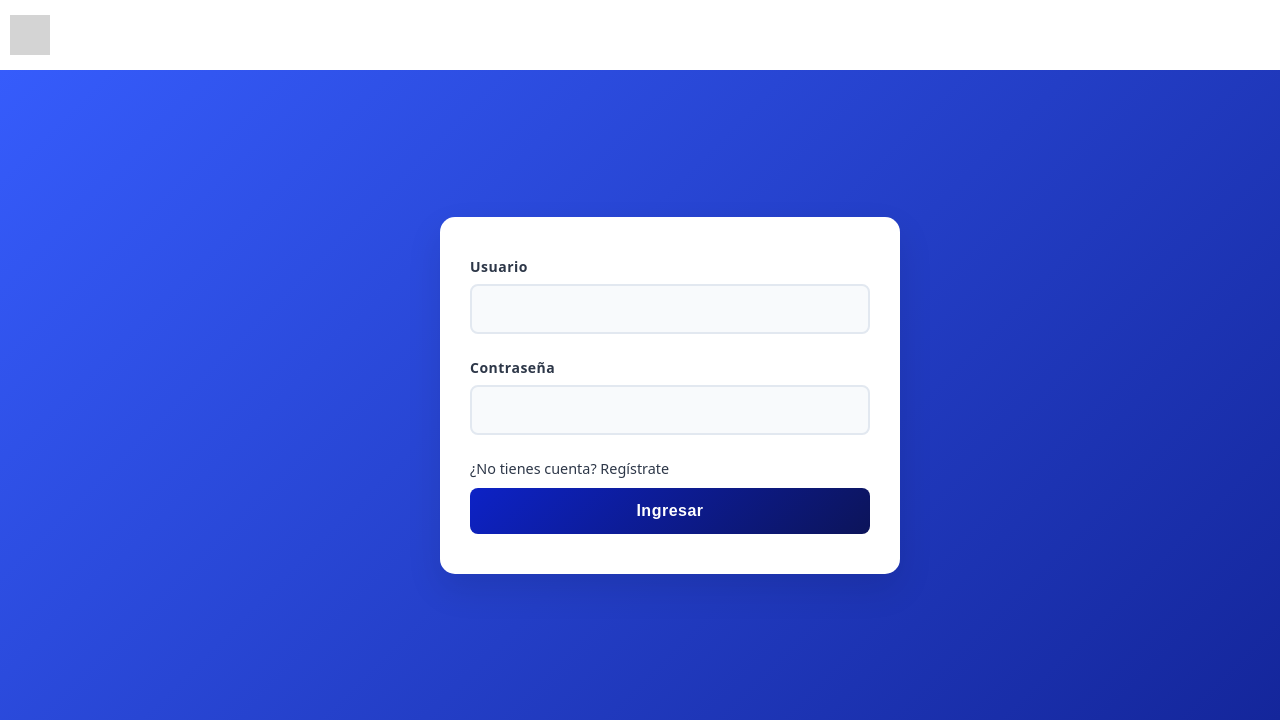
Test: Login page › muestra error con credenciales inválidas
The width and height of the screenshot is (1280, 720).
Type "john" into the field named "username" at (670, 308), box top-left (470, 284), bottom-right (870, 334)
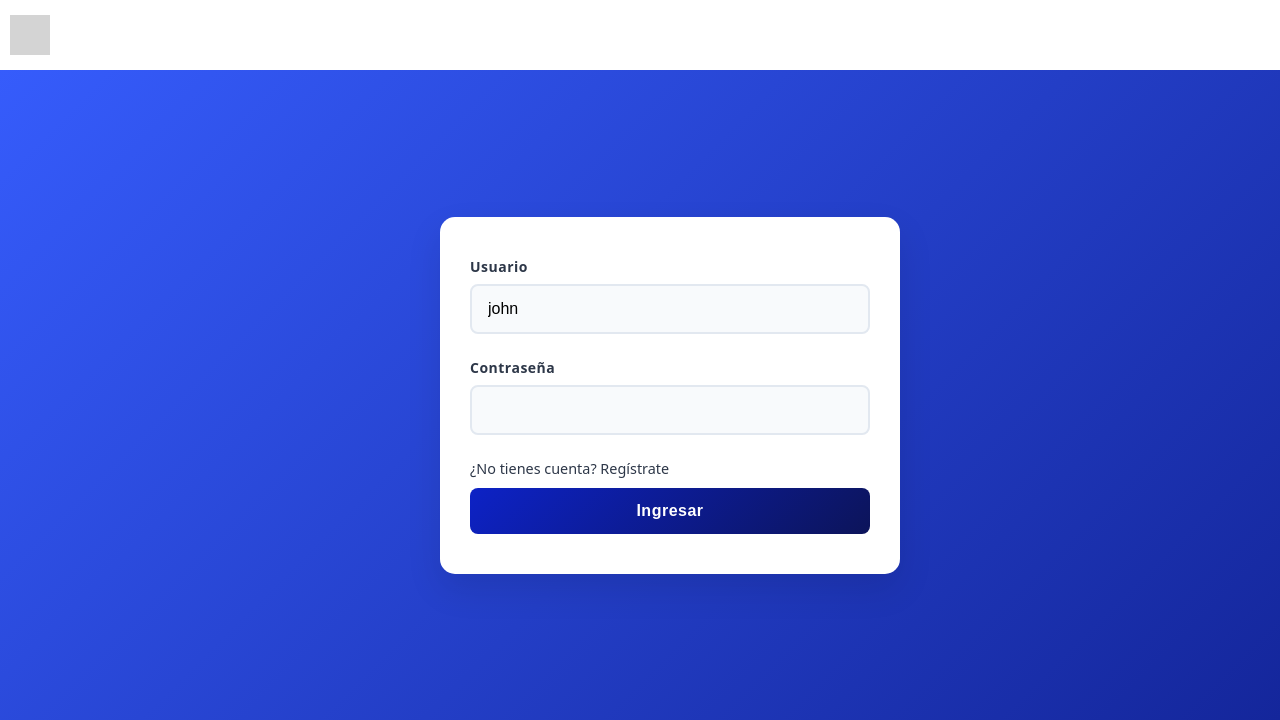
Type "bad" into the password field named "password" at (670, 410), box top-left (470, 384), bottom-right (870, 434)
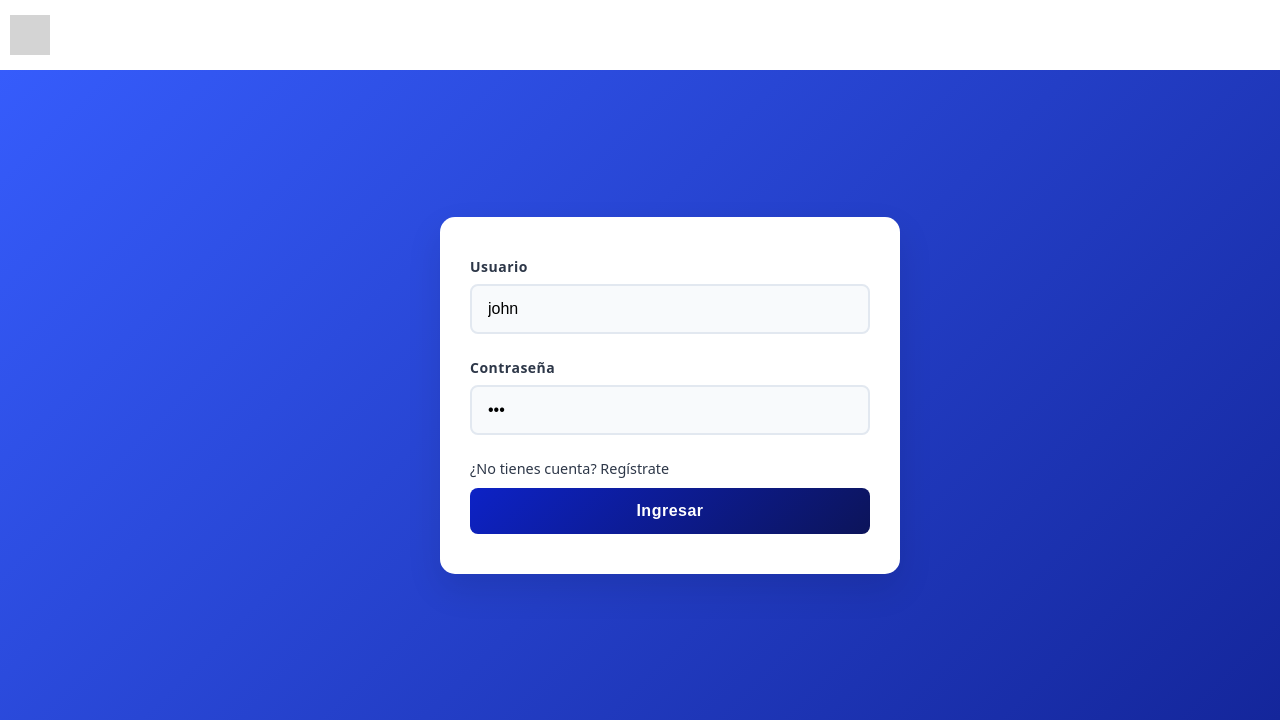
Click the button "Ingresar" at (670, 510), box top-left (470, 488), bottom-right (870, 534)
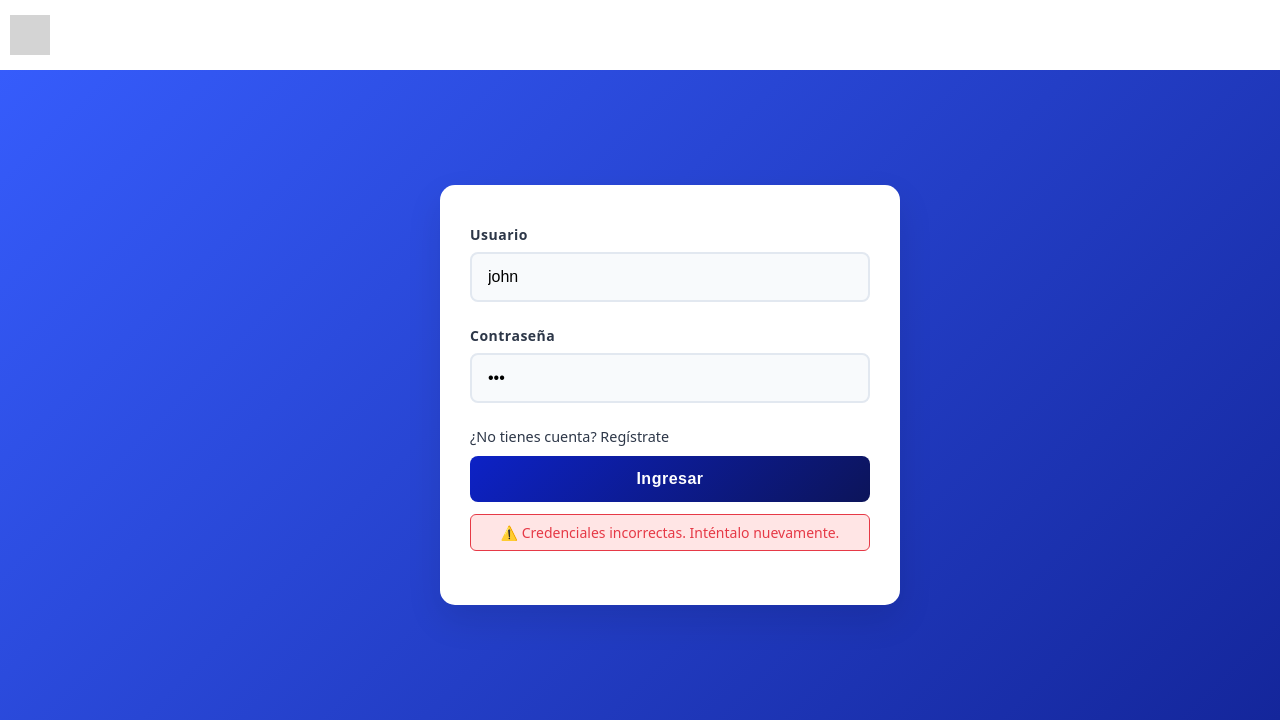
Now the text "⚠️ Credenciales incorrectas. Inténtalo nuevamente." is shown, box top-left (470, 514), bottom-right (870, 551)
